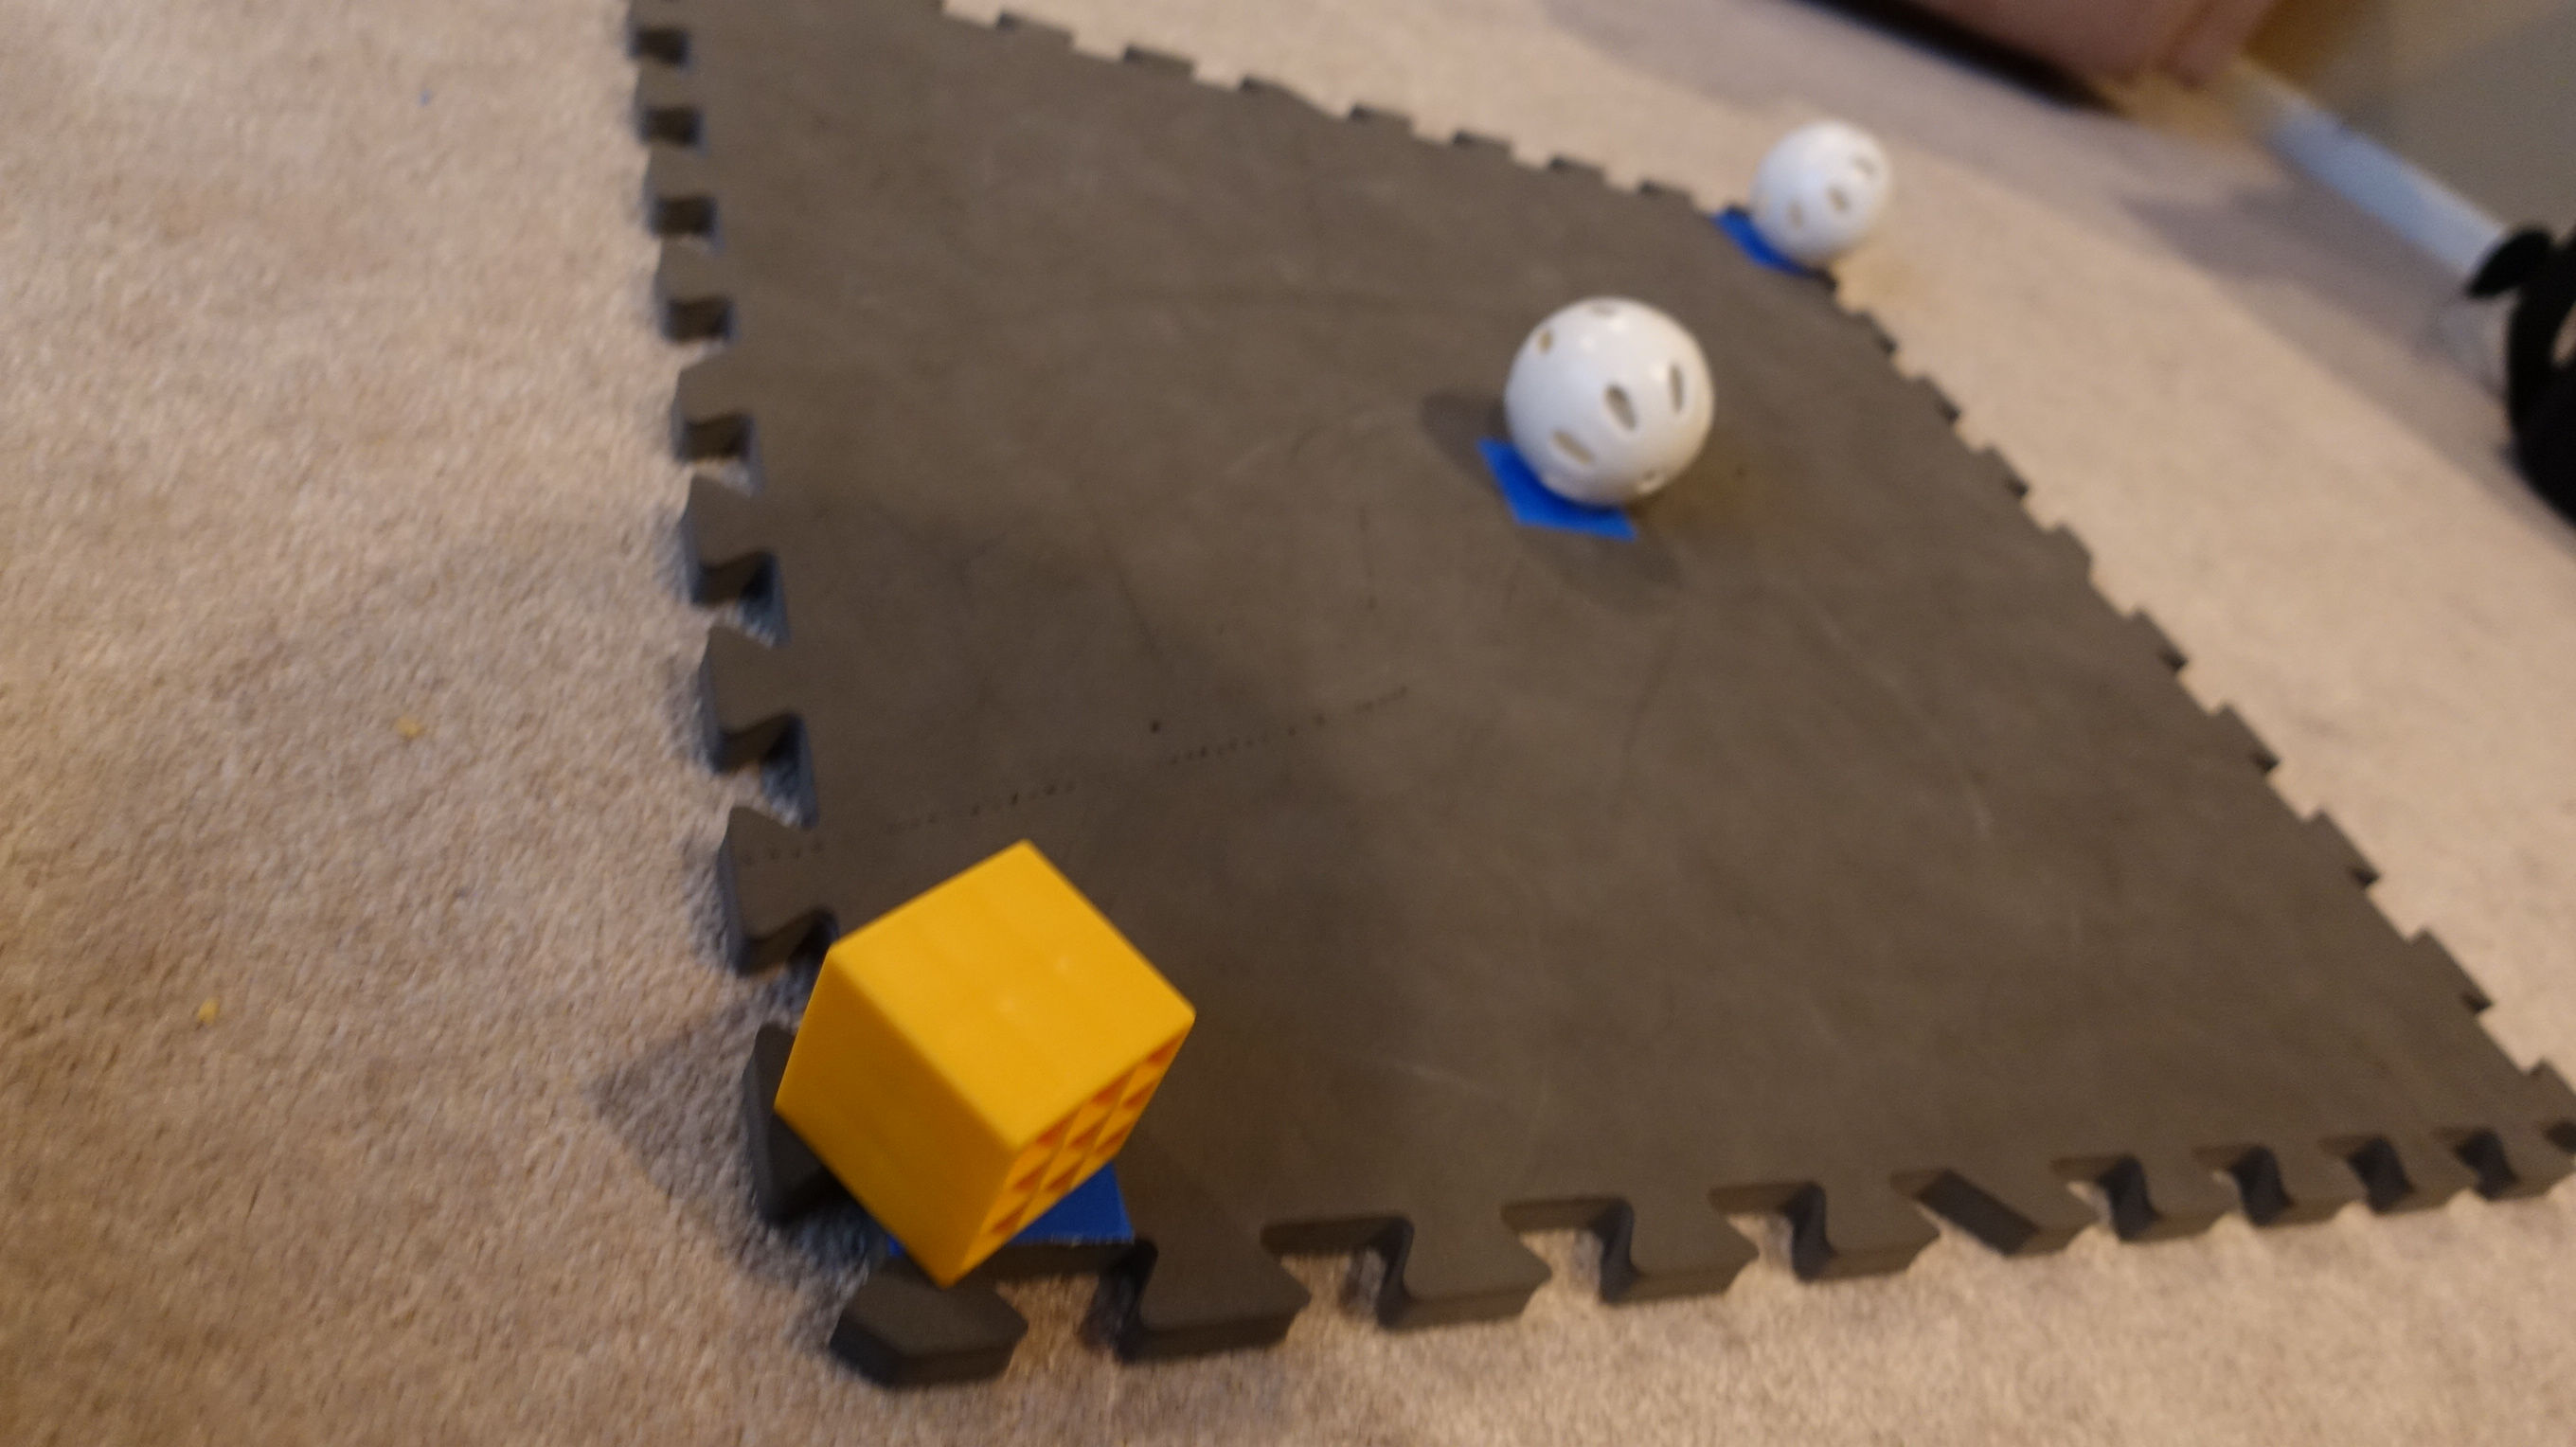gold: (777, 835, 1200, 1286)
silver: (1500, 292, 1714, 506), (1743, 119, 1898, 271)
